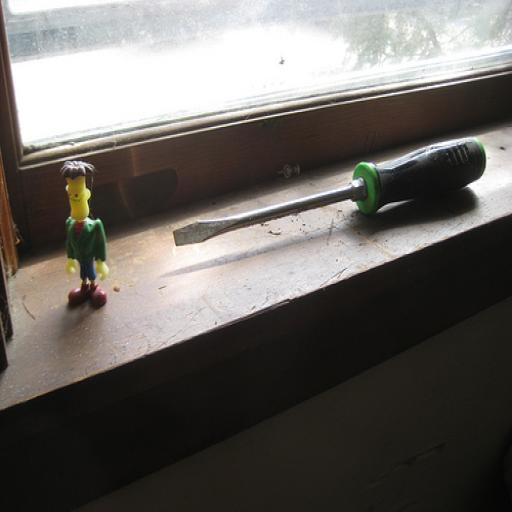screwdriver: (172, 137, 486, 246)
